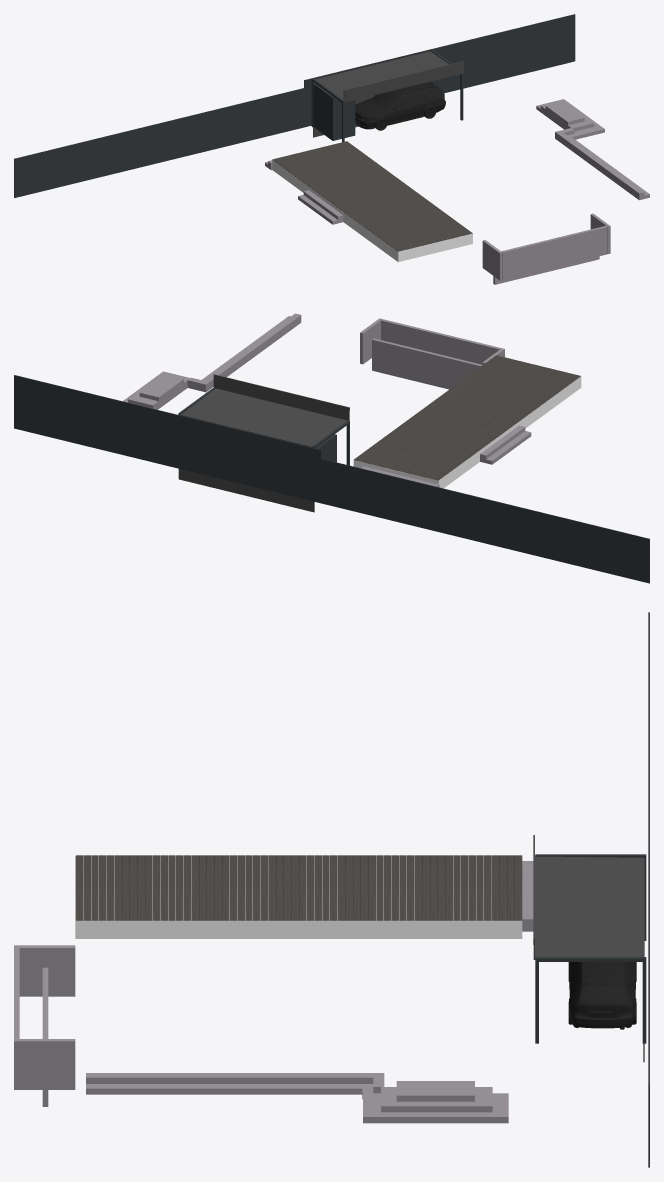
The model's file is EG_Aussen.gltf.
3 views of the same model, one above another, from view 1: azimuth 30°, elevation 25°; view 2: azimuth 150°, elevation 25°; view 3: azimuth 270°, elevation 25° (orthographic). The views are drawn at different scales.
Parts seen in each view (by area): view 1: Zaun - Buchert.018, holzfassade.029, Zaun - Buchert.010, Carport.001, Cut-Office.003, vOLVO.001, _Terasse.002, Zaun - Buchert.012, _LangeStufe.008, Cut-Office.002, _LangeStufe.009, _EingangTreppe.006 (+3 smaller); view 2: Zaun - Buchert.010, Zaun - Buchert.018, holzfassade.029, Carport.001, Cut-Office.021, Cut-Office.003, _Terasse.002, _LangeStufe.008, _LangeStufe.009, _EingangTreppe.006, Cut-Office.011, _EingangTreppe.004 (+2 smaller); view 3: holzfassade.029, Carport.001, _Terasse.002, vOLVO.001, _LangeStufe.008, Cut-Office.011, _LangeStufe.009, Cut-Office.002, _EingangTreppe.003, _EingangTreppe.004, _EingangTreppe.006, _LangeStufe.012.
Boxes of the visible parts, bbox=[...] form: Zaun - Buchert.018: bbox=[14, 88, 304, 197]; holzfassade.029: bbox=[272, 141, 472, 251]; Zaun - Buchert.010: bbox=[304, 14, 575, 127]; Carport.001: bbox=[313, 51, 463, 137]; Cut-Office.003: bbox=[501, 226, 607, 279]; vOLVO.001: bbox=[355, 81, 445, 130]; _Terasse.002: bbox=[272, 160, 472, 261]; Zaun - Buchert.012: bbox=[313, 83, 355, 140]; _LangeStufe.008: bbox=[555, 130, 644, 196]; Cut-Office.002: bbox=[482, 240, 502, 280]; _LangeStufe.009: bbox=[555, 135, 649, 200]; _EingangTreppe.006: bbox=[545, 102, 584, 125]; Zaun - Buchert.010: bbox=[14, 375, 321, 503]; Zaun - Buchert.018: bbox=[321, 459, 649, 583]; holzfassade.029: bbox=[354, 355, 580, 480]; Carport.001: bbox=[178, 374, 349, 512]; Cut-Office.021: bbox=[372, 338, 482, 389]; Cut-Office.003: bbox=[381, 319, 501, 364]; _Terasse.002: bbox=[353, 376, 581, 488]; _LangeStufe.008: bbox=[200, 313, 301, 388]; _LangeStufe.009: bbox=[193, 316, 301, 392]; _EingangTreppe.006: bbox=[139, 374, 183, 401]; Cut-Office.011: bbox=[360, 318, 382, 364]; _EingangTreppe.004: bbox=[128, 373, 188, 408]; holzfassade.029: bbox=[75, 855, 522, 920]; Carport.001: bbox=[533, 835, 644, 1062]; _Terasse.002: bbox=[75, 856, 522, 938]; vOLVO.001: bbox=[568, 962, 636, 1029]; _LangeStufe.008: bbox=[86, 1073, 384, 1083]; Cut-Office.011: bbox=[14, 1039, 75, 1089]; _LangeStufe.009: bbox=[86, 1084, 373, 1094]; Cut-Office.002: bbox=[14, 945, 75, 996]; _EingangTreppe.003: bbox=[363, 1093, 508, 1123]; _EingangTreppe.004: bbox=[381, 1087, 492, 1112]; _EingangTreppe.006: bbox=[396, 1081, 474, 1101]; _LangeStufe.012: bbox=[522, 861, 533, 925].
Size of the model in its own units: 30 by 4.91 by 16.6.
22 materials, 1 textured.
